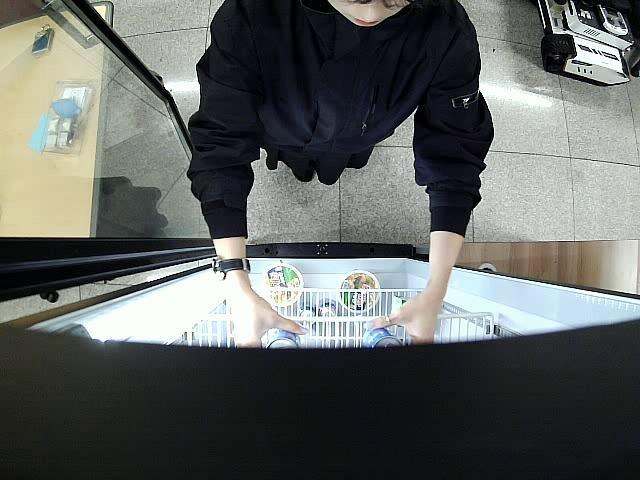15_letsbe: (264, 326, 302, 348), (364, 326, 402, 347)
